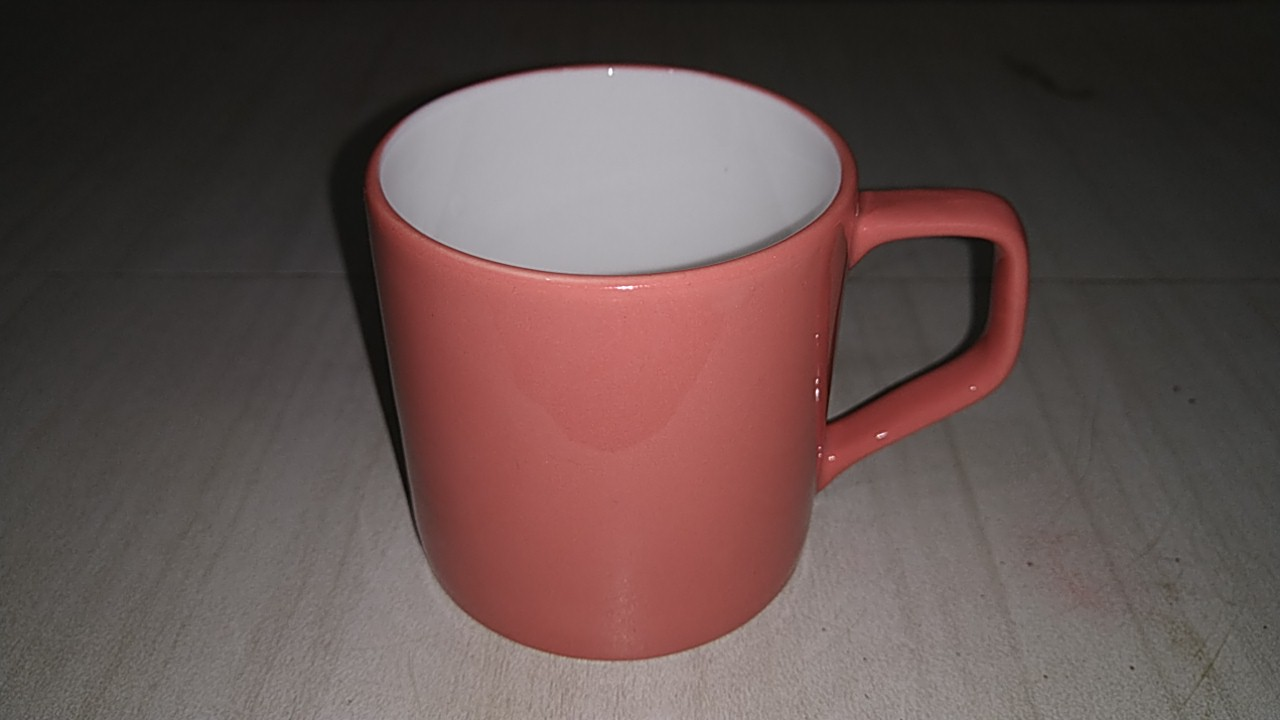cup: (314, 52, 1053, 677)
